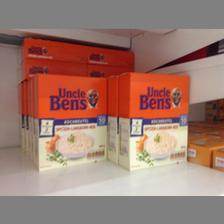Reis: (116, 71, 192, 169), (30, 72, 105, 168)
